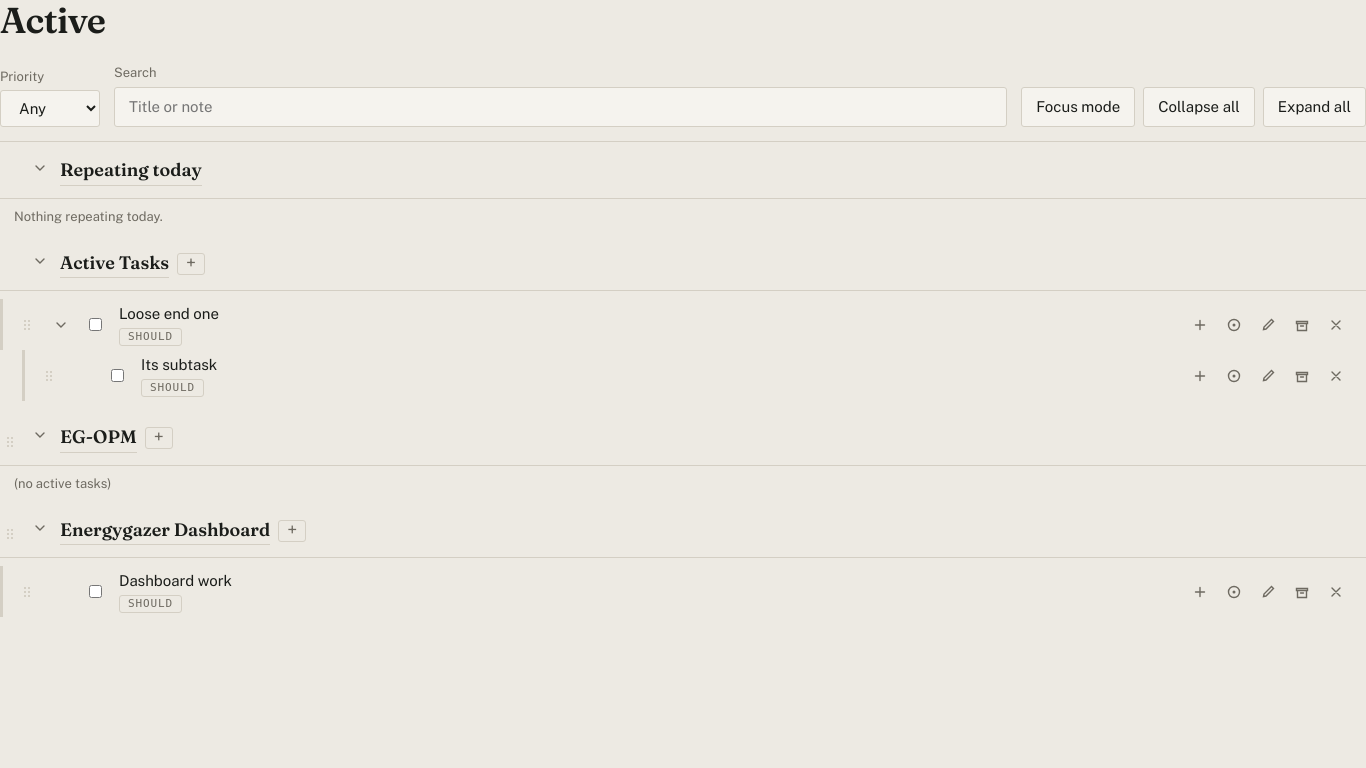
Test: deleting asks first › does not delete on the first click
Expected: the text "Loose end one" is shown, [119,305,219,322]
Click the 8th button named "delete Loose end one": (1336, 325) [1320,309,1352,341]
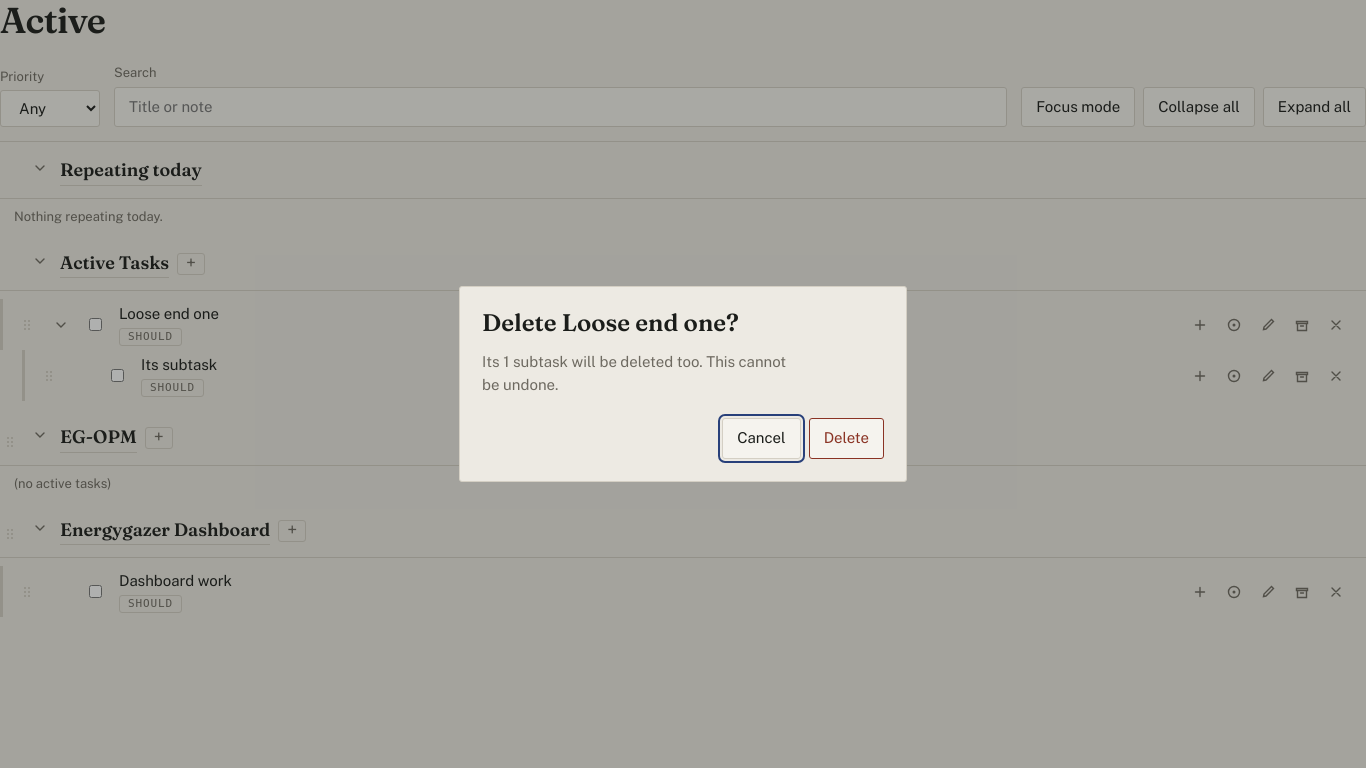
Now the dialog is shown, box [459,286,907,482]
